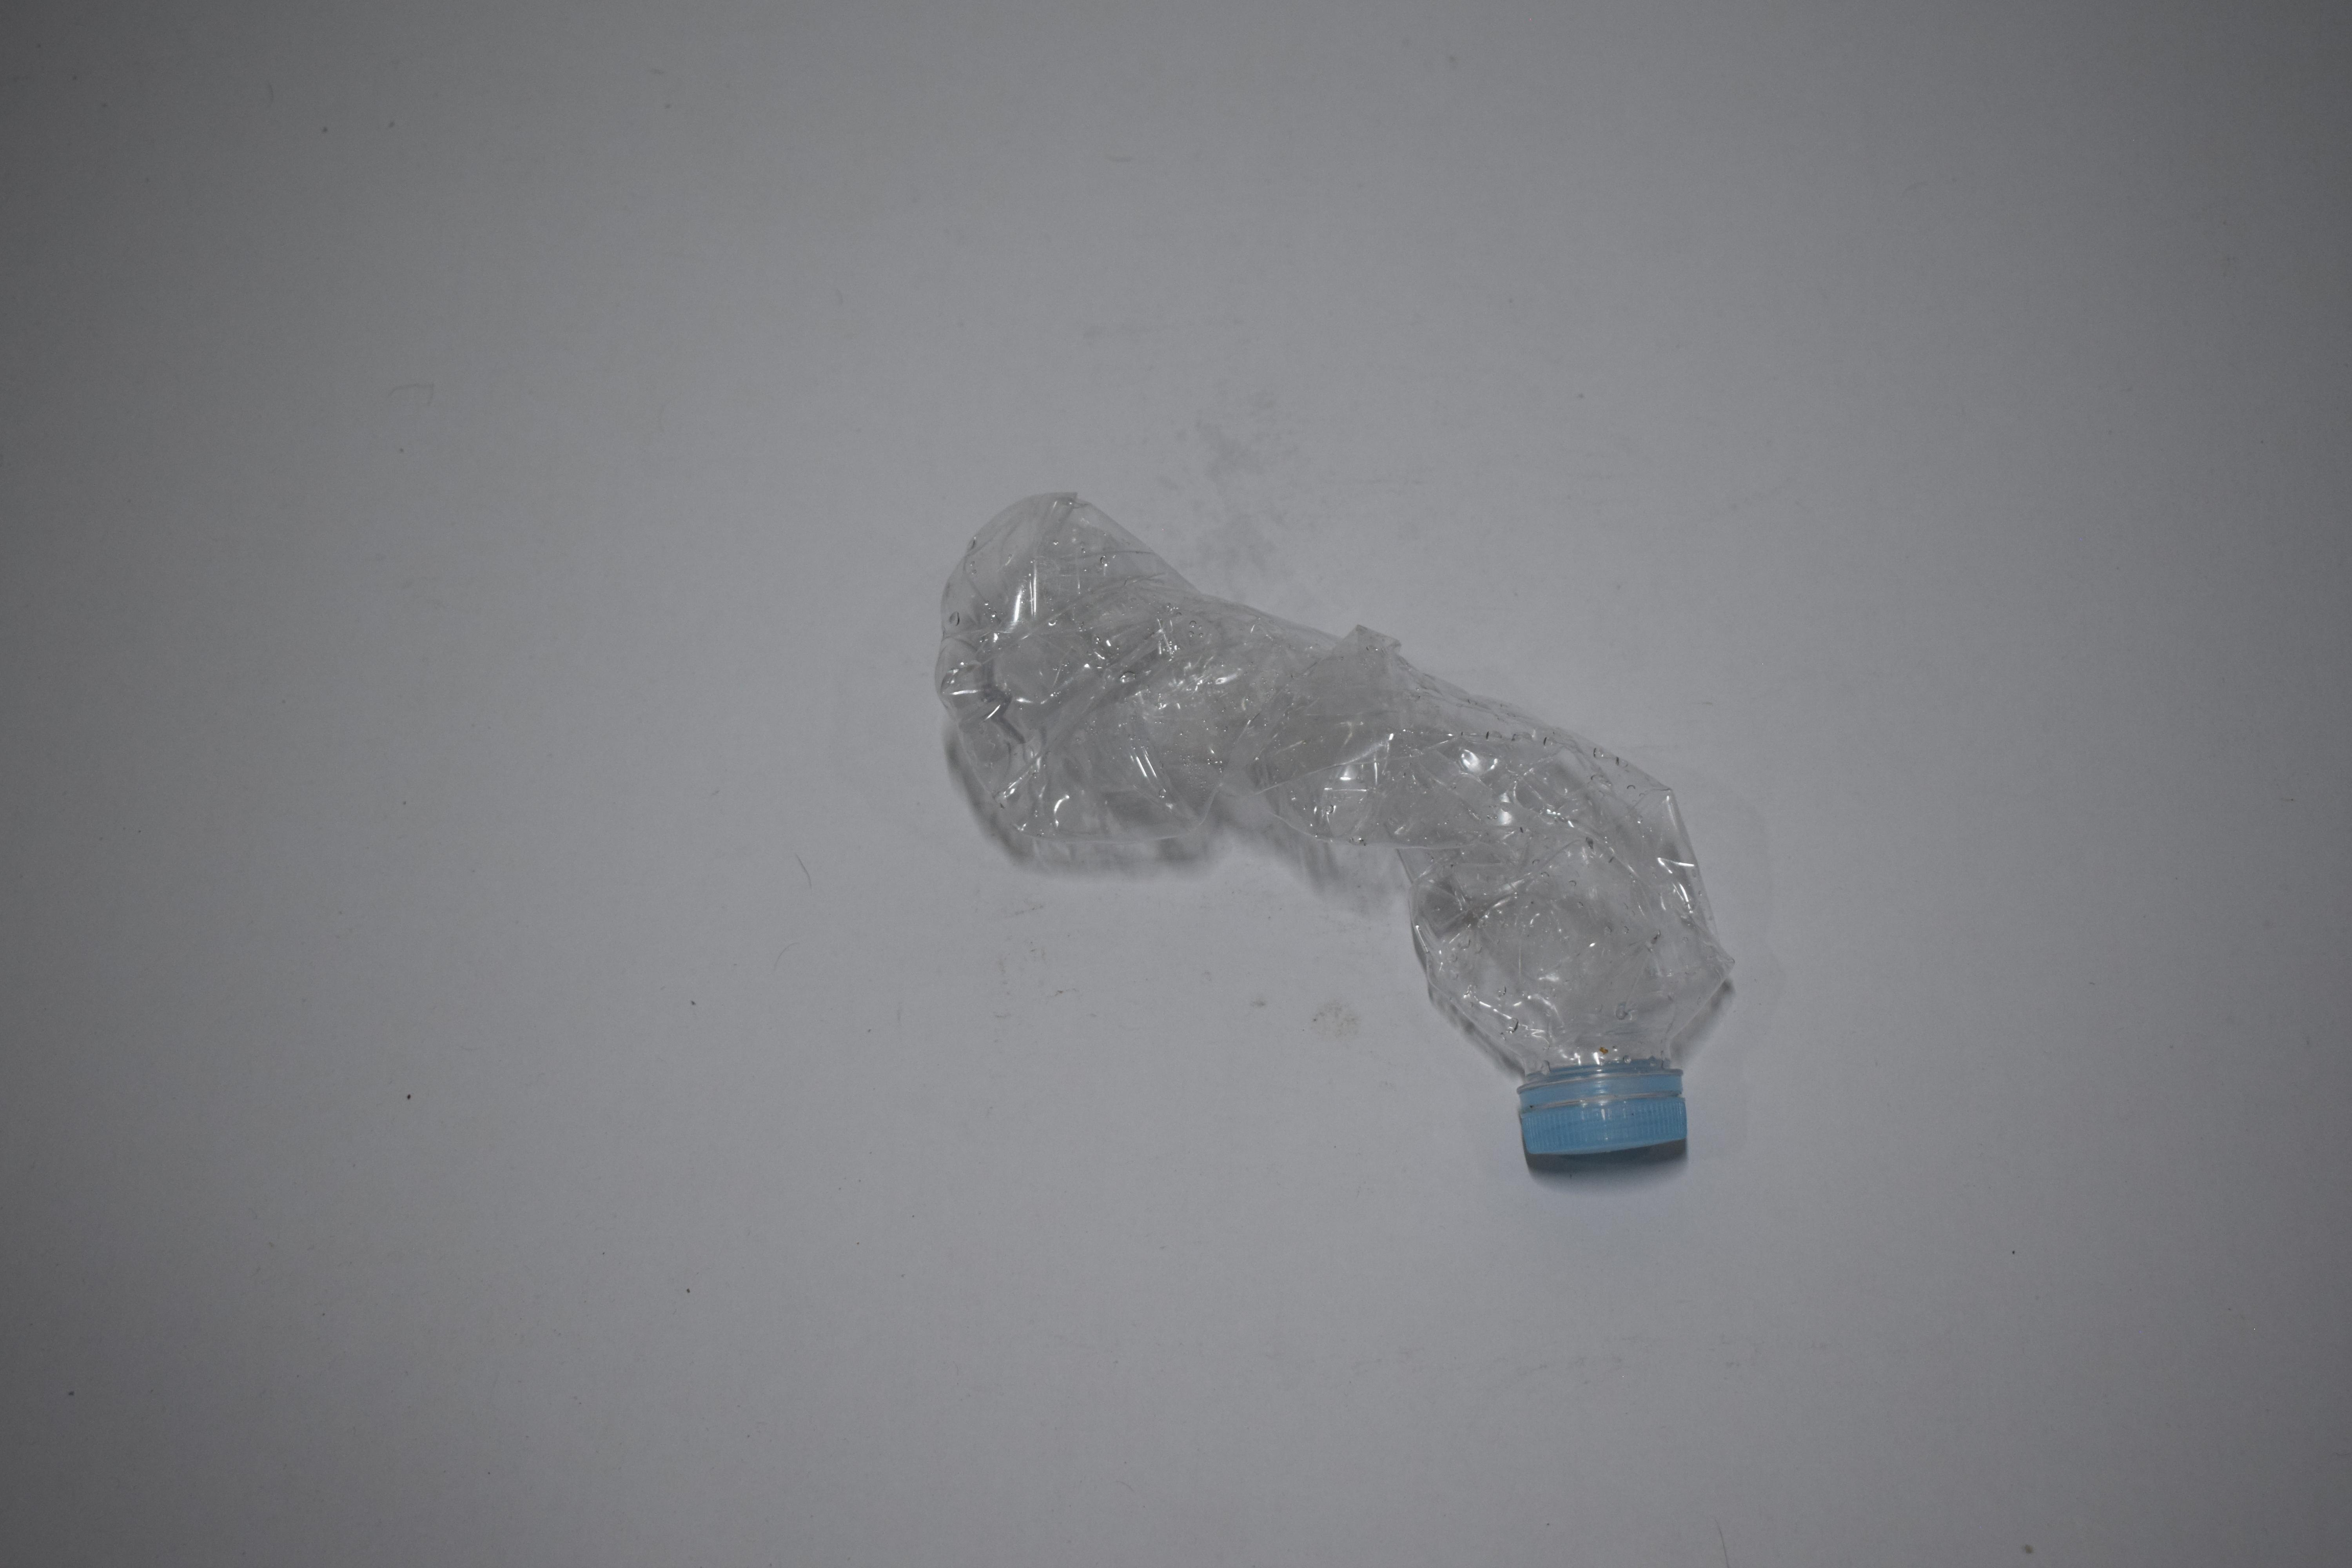bottle: (0, 0, 565, 395)
